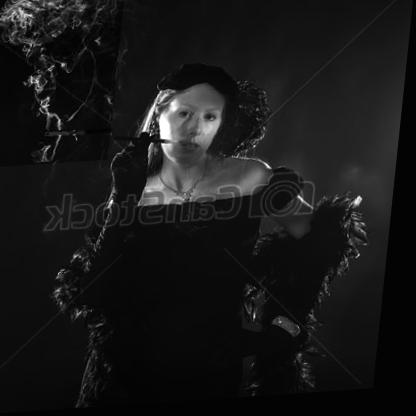smoke: (0, 0, 125, 168)
